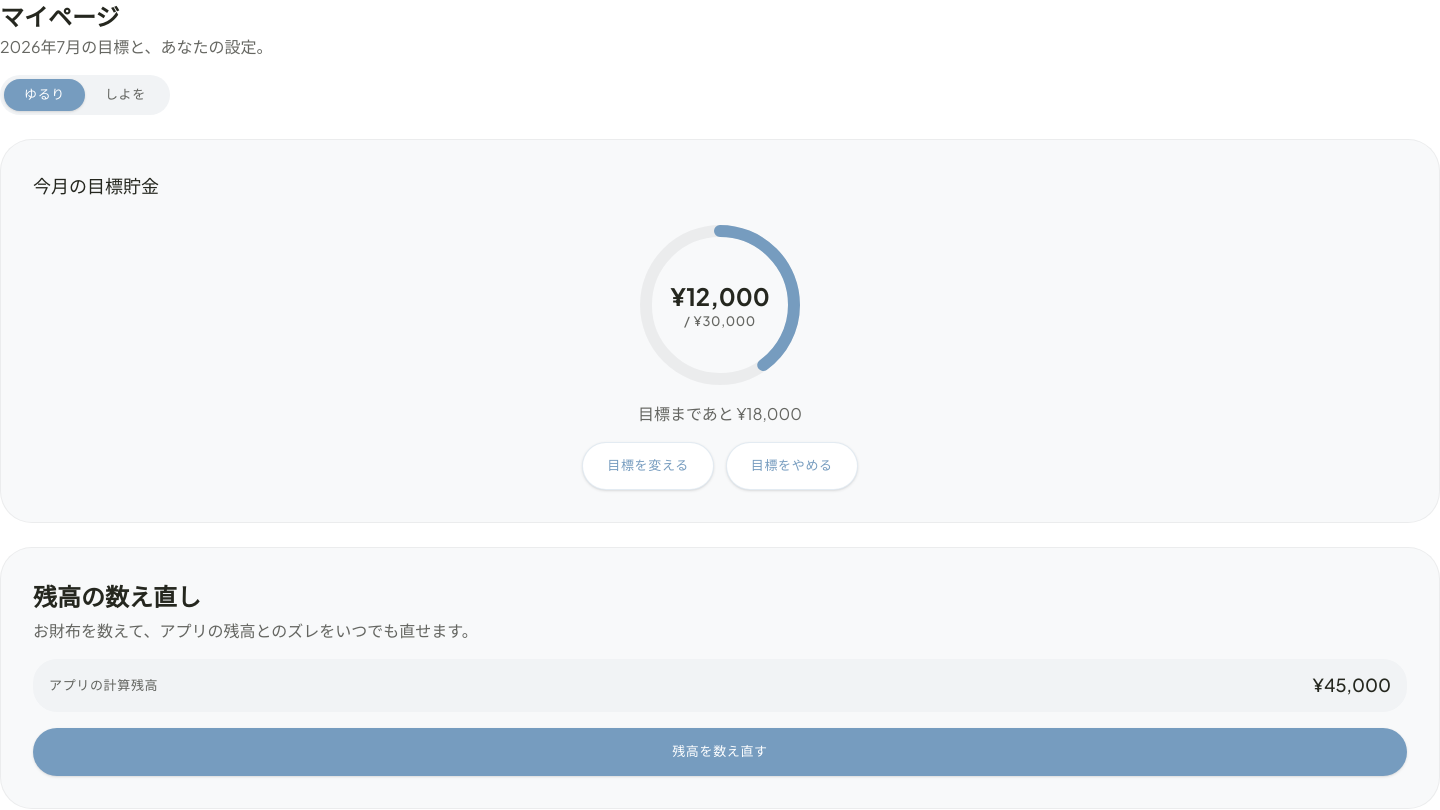
Test: MyPage 統合（目標貯金 + プロフィール） › 目標をやめられる
Click the button "目標をやめる".
click(792, 466)  # box [726,442,858,490]
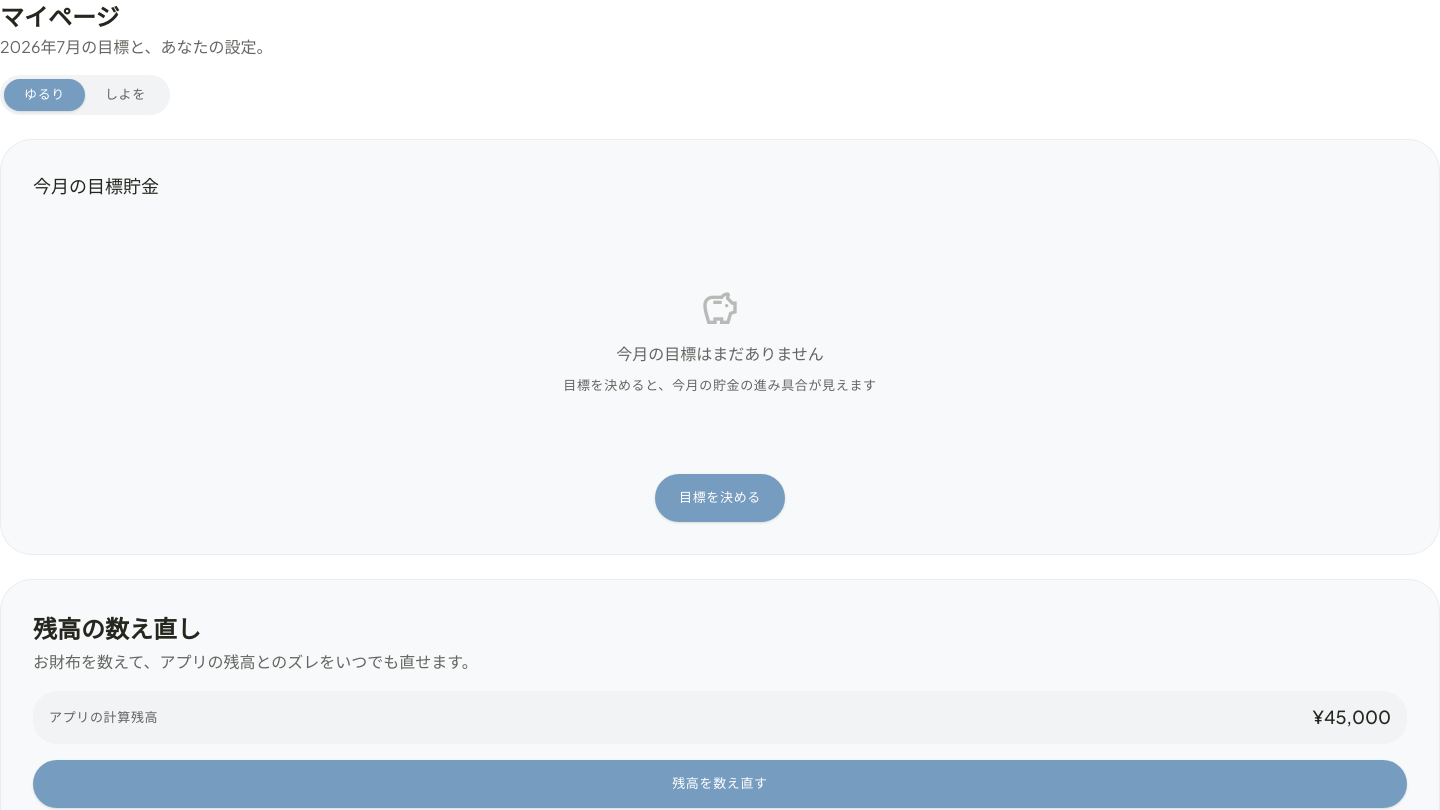
Now the text "今月の目標はまだありません" is shown, box [616,341,824,366]
